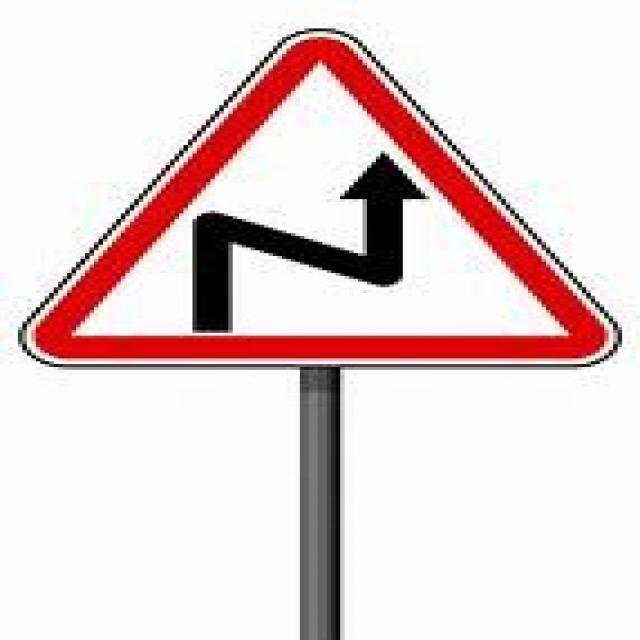RIGHT_REVERSE_BEND: (9, 23, 618, 370)
